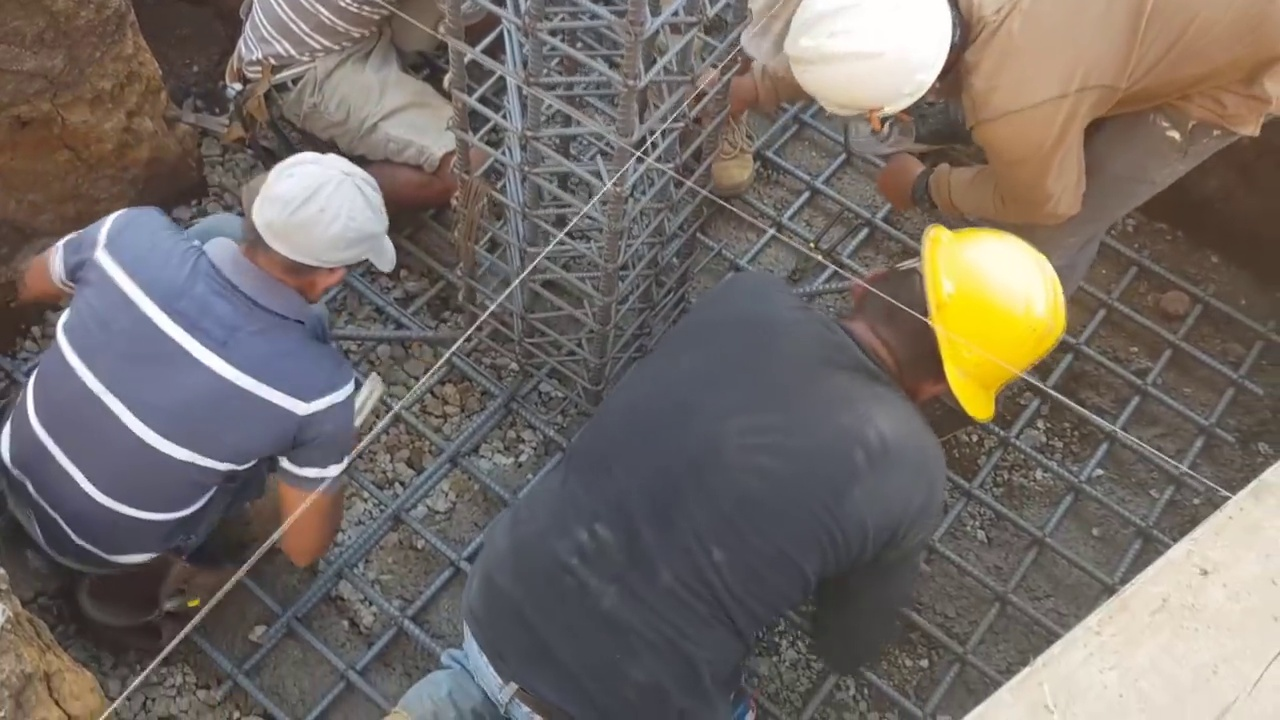helmet: (922, 224, 1078, 423), (780, 0, 957, 117)
helmet-off: (239, 149, 398, 306)
helmet-on: (838, 230, 1081, 428), (784, 6, 990, 126)
person: (392, 228, 1081, 720), (11, 141, 409, 637), (772, 0, 1280, 299), (225, 0, 538, 261)
